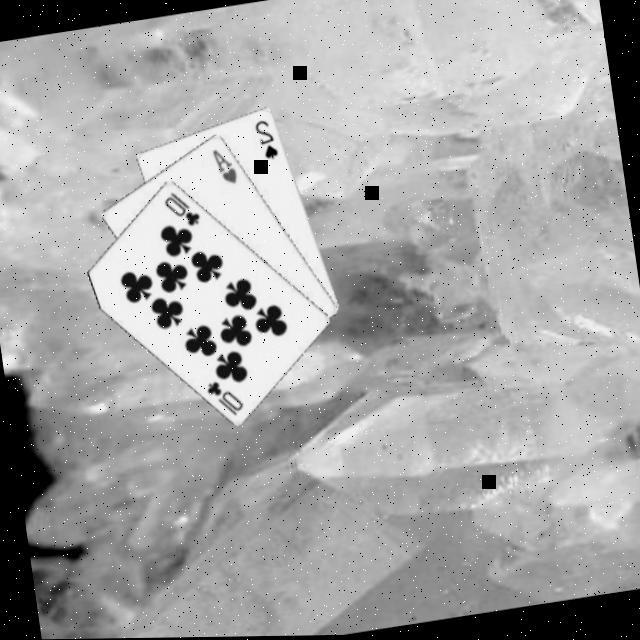10C: (203, 373, 249, 422), (162, 184, 207, 232)
2S: (252, 114, 284, 163)
AH: (211, 142, 244, 188)
